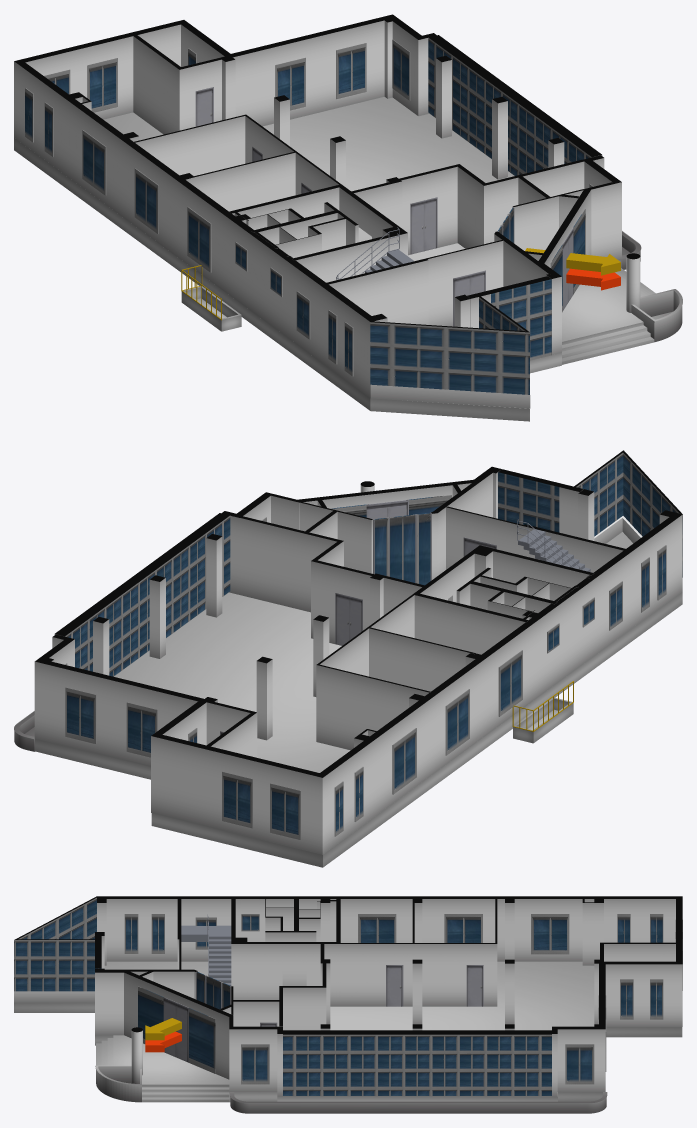
The model's file is soulbrain_T2-3-1F.glb.
3 renders of one model, top to bottom at view 1: azimuth 30°, elevation 25°; view 2: azimuth 150°, elevation 25°; view 3: azimuth 270°, elevation 25°, orthographic. The views are drawn at different scales.
Parts seen in each view (by area): view 1: Cylinder001, Object001 (1), T2-3-1F, Box091, Box057, Box092, arrow_Y_1_T2-3-1F, arrow_R_1_T2-3-1F, Box133, Box056; view 2: Cylinder001, T2-3-1F, Object001 (1), Box091, Line143, Box092, Box057; view 3: Cylinder001, Object001 (1), T2-3-1F, Box091, Line143, Box051, Box052, arrow_Y_1_T2-3-1F, arrow_R_1_T2-3-1F.
Part boxes in pixels (left/top/right/bottom): Cylinder001: left=14, top=14, right=682, bottom=408; Object001 (1): left=370, top=35, right=602, bottom=394; T2-3-1F: left=14, top=96, right=621, bottom=421; Box091: left=25, top=39, right=593, bottom=376; Box057: left=410, top=197, right=437, bottom=254; Box092: left=181, top=286, right=241, bottom=331; arrow_Y_1_T2-3-1F: left=525, top=248, right=620, bottom=275; arrow_R_1_T2-3-1F: left=566, top=268, right=620, bottom=290; Box133: left=453, top=270, right=485, bottom=326; Box056: left=195, top=87, right=213, bottom=126; Cylinder001: left=14, top=466, right=682, bottom=854; T2-3-1F: left=35, top=519, right=682, bottom=867; Object001 (1): left=54, top=450, right=682, bottom=676; Box091: left=65, top=495, right=666, bottom=839; Line143: left=373, top=512, right=431, bottom=585; Box092: left=513, top=697, right=573, bottom=743; Box057: left=335, top=593, right=362, bottom=645; Cylinder001: left=14, top=896, right=682, bottom=1113; Object001 (1): left=14, top=896, right=551, bottom=1095; T2-3-1F: left=14, top=914, right=682, bottom=1102; Box091: left=124, top=914, right=682, bottom=1084; Line143: left=196, top=971, right=231, bottom=1009; Box051: left=466, top=965, right=483, bottom=1006; Box052: left=386, top=965, right=403, bottom=1006; arrow_Y_1_T2-3-1F: left=145, top=1018, right=181, bottom=1040; arrow_R_1_T2-3-1F: left=145, top=1031, right=181, bottom=1052.
Size of the model in its own units: 18.83 by 5.7 by 34.84.
12 materials, 8 textured.
